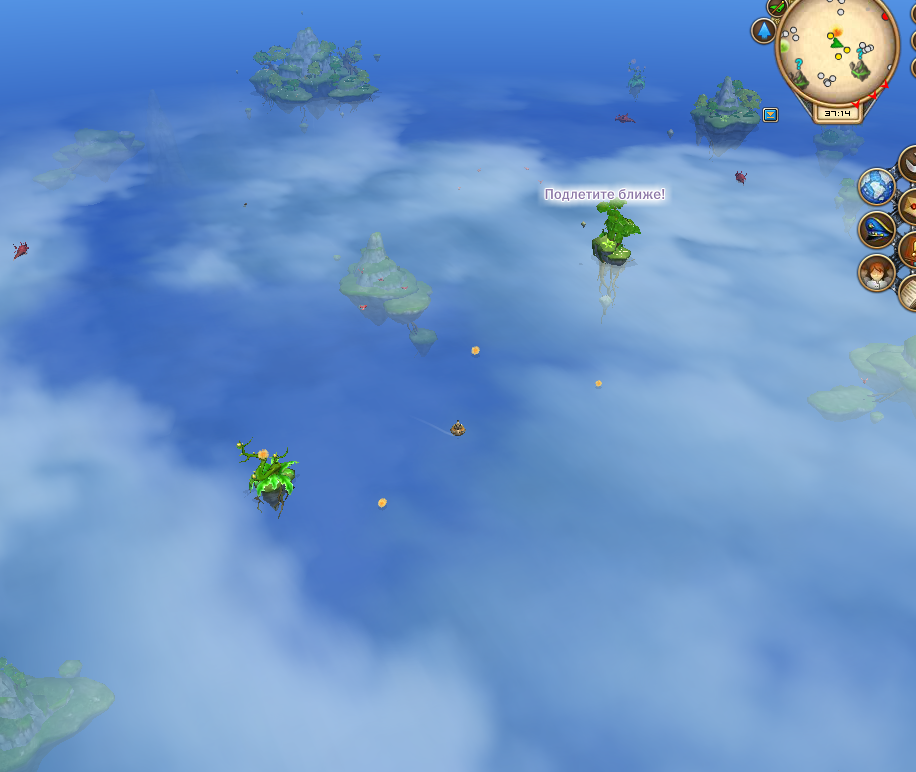dandelion-full: (234, 434, 301, 519), (624, 53, 649, 103)
fluff: (373, 495, 391, 514), (468, 342, 484, 361), (592, 378, 605, 392)
